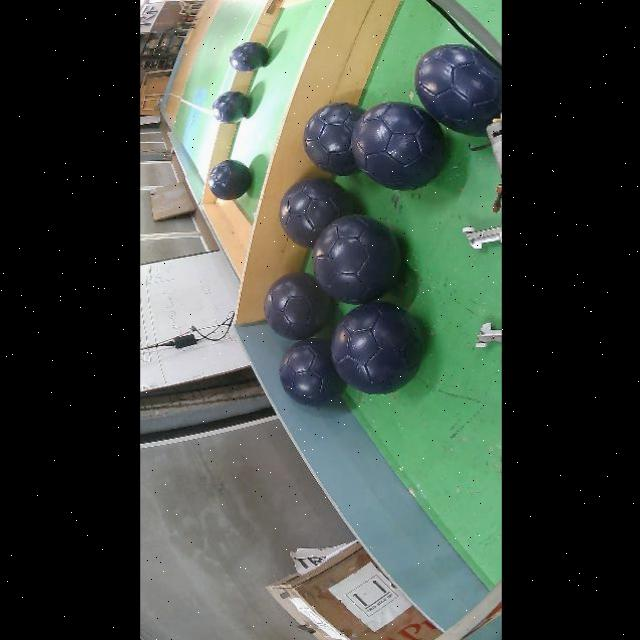B: (331, 302, 424, 394), (351, 102, 446, 190), (415, 45, 502, 136), (312, 216, 401, 304), (279, 178, 354, 248), (263, 272, 332, 340), (303, 102, 365, 175), (279, 339, 344, 407), (207, 159, 251, 201), (211, 91, 249, 124), (229, 42, 268, 72)
